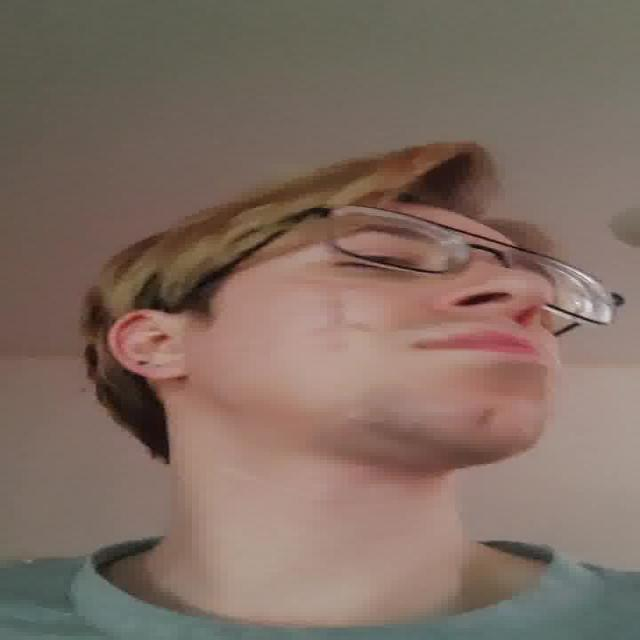earlobe: (134, 359, 194, 382)
eye: (329, 250, 424, 274)
nose: (448, 296, 546, 341)
wholeear: (109, 306, 188, 382)
